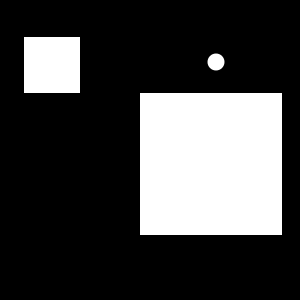circle: (140, 93, 282, 235), (24, 37, 80, 93)
rectangle: (208, 54, 224, 70)
